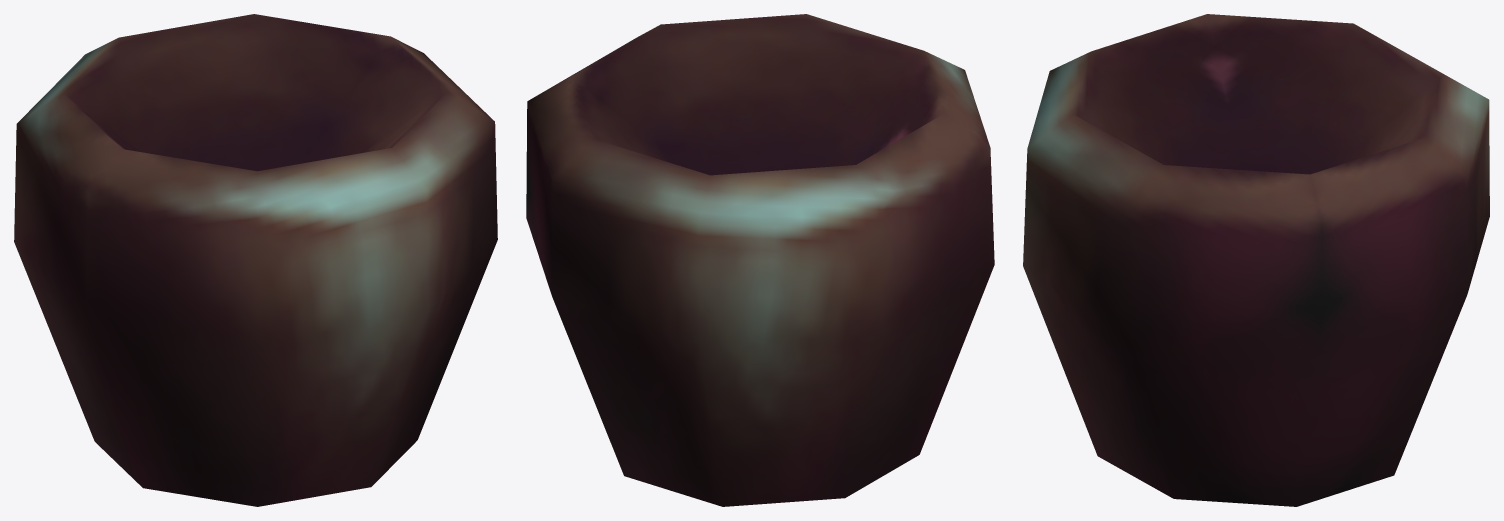
File: Sea_guangzi03.FBX
3 renders of one model, left to right at view 1: azimuth 30°, elevation 25°; view 2: azimuth 150°, elevation 25°; view 3: azimuth 270°, elevation 25°, orthographic.
Parts seen in each view (by area): view 1: guangzi03; view 2: guangzi03; view 3: guangzi03.
Part boxes in pixels (x1,y1,x2,y2): guangzi03: (14,14,497,506); guangzi03: (526,14,994,506); guangzi03: (1023,14,1489,506).
Bounding box in the file's own units: 18.06 × 15 × 18.06.
